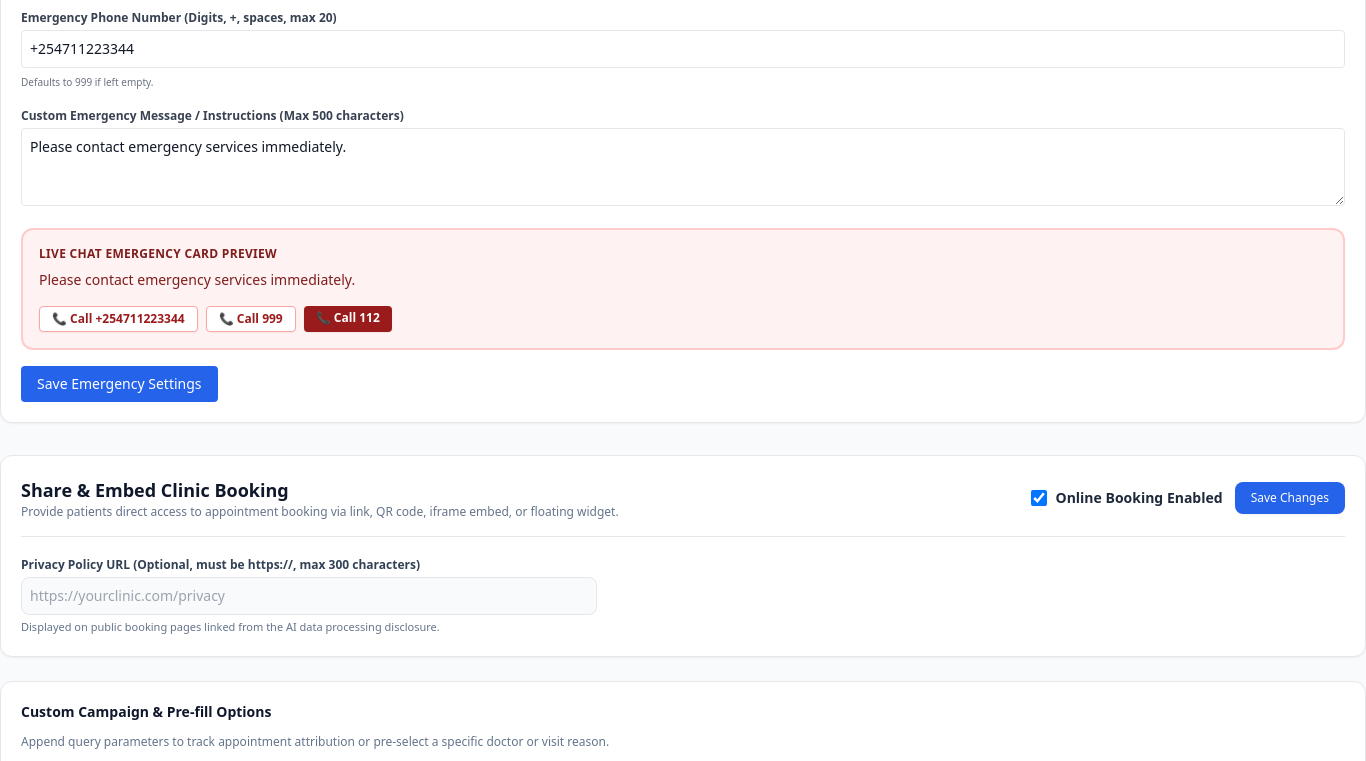
it: ClinicSetup Component › handles emergency settings update and displays validation error on invalid input
(page scrolled)
Expected: the field showing "+254711223344" is shown, 21,30 -> 1345,68
Click the button "Save Emergency Settings" at (119, 384), box 21,366 -> 218,402
(page scrolled)
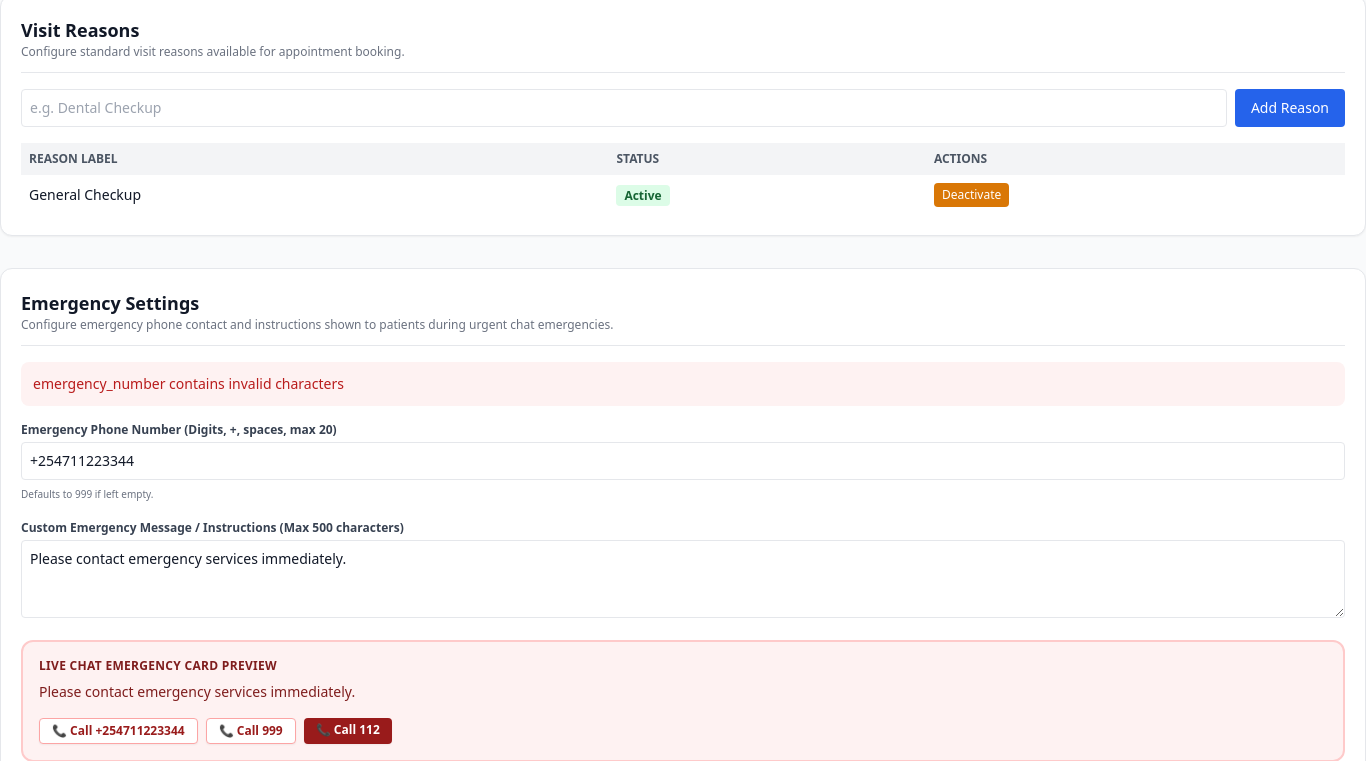
Expected: the text "emergency_number contains invalid characters" is shown, 21,362 -> 1345,406
